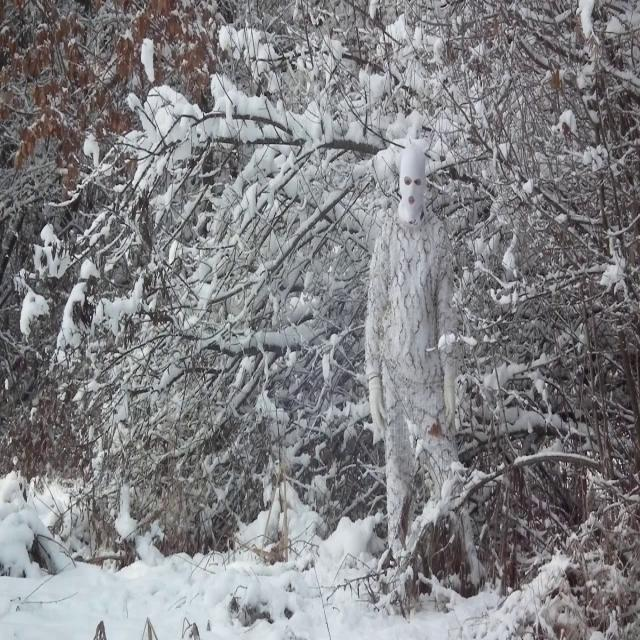Camouflage: (363, 143, 463, 559)
